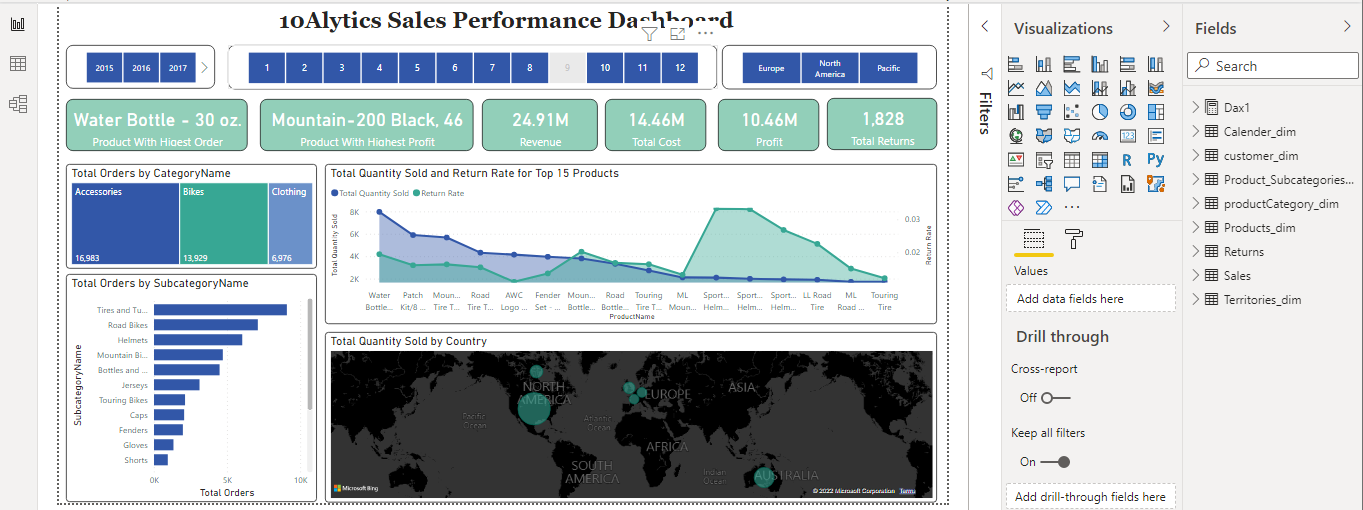

This screenshot's page, from the dashboard's own definition file:
{"tool":"powerbi","page":{"name":"Page 1","canvas":[1280,720],"ordinal":0},"visuals":[{"type":"textbox","box":[9.8,0,1270.2,45.9],"z":0},{"type":"slicer","fields":{"Values":["Calender_dim.Year"]},"box":[10.1,59.2,215,63.5],"z":1000},{"type":"slicer","fields":{"Values":["Calender_dim.Month"]},"box":[244.2,59,706.4,63.9],"z":2000},{"type":"slicer","fields":{"Values":["Territories_dim.Continent"]},"box":[957.1,59,309.8,63.9],"z":3000},{"type":"card","fields":{"Values":["Min(Products_dim.ProductName)"]},"box":[9.8,136.4,262.2,75.4],"z":4000},{"type":"card","fields":{"Values":["Min(Products_dim.ProductName)"]},"box":[290.1,136.4,308.1,75.4],"z":5000},{"type":"card","fields":{"Values":["Dax1.Revenue"]},"box":[609.7,136.4,167.2,75.4],"z":6000},{"type":"card","fields":{"Values":["Dax1.Total Cost"]},"box":[788.3,136.4,145.9,75.4],"z":7000},{"type":"card","fields":{"Values":["Dax1.Profit"]},"box":[950.6,136.4,145.9,75.4],"z":8000},{"type":"card","fields":{"Values":["Dax1.Total Returns"]},"box":[1107.9,136,159,75.4],"z":9000},{"type":"treemap","fields":{"Group":["productCategory_dim.CategoryName"],"Values":["Dax1.Total Orders"]},"box":[9.8,231.1,362.2,150.8],"z":10000},{"type":"clusteredBarChart","fields":{"Category":["Product_Subcategories_dim.SubcategoryName"],"Y":["Dax1.Total Orders"]},"box":[9.8,390.1,362.2,329.4],"z":11000},{"type":"areaChart","title":"Total Quantity Sold and Return Rate for Top 15 Products","fields":{"Category":["Products_dim.ProductName"],"Y":["Dax1.Total Quantity Sold"],"Y2":["Dax1.Revenue Rate"]},"box":[383.5,231.1,883.4,231.1],"z":12000},{"type":"map","fields":{"Category":["Territories_dim.Country"],"Size":["Dax1.Total Quantity Sold"]},"box":[383.5,473.6,883.4,245.8],"z":13000}]}

Visuals, with their boxes in screenshot pixels (x1, y1, x2, y2):
textbox: [60,0,949,29]
slicer - Calender_dim.Year: [60,38,211,82]
slicer - Calender_dim.Month: [224,38,719,82]
slicer - Territories_dim.Continent: [723,38,940,82]
card - Min(Products_dim.ProductName): [60,92,244,145]
card - Min(Products_dim.ProductName): [256,92,472,145]
card - Dax1.Revenue: [480,92,597,145]
card - Dax1.Total Cost: [605,92,707,145]
card - Dax1.Profit: [719,92,821,145]
card - Dax1.Total Returns: [829,92,940,144]
treemap - productCategory_dim.CategoryName x Dax1.Total Orders: [60,158,314,264]
clusteredBarChart - Product_Subcategories_dim.SubcategoryName x Dax1.Total Orders: [60,270,314,500]
"Total Quantity Sold and Return Rate for Top 15 Products" areaChart: [322,158,940,320]
map - Territories_dim.Country x Dax1.Total Quantity Sold: [322,328,940,500]
